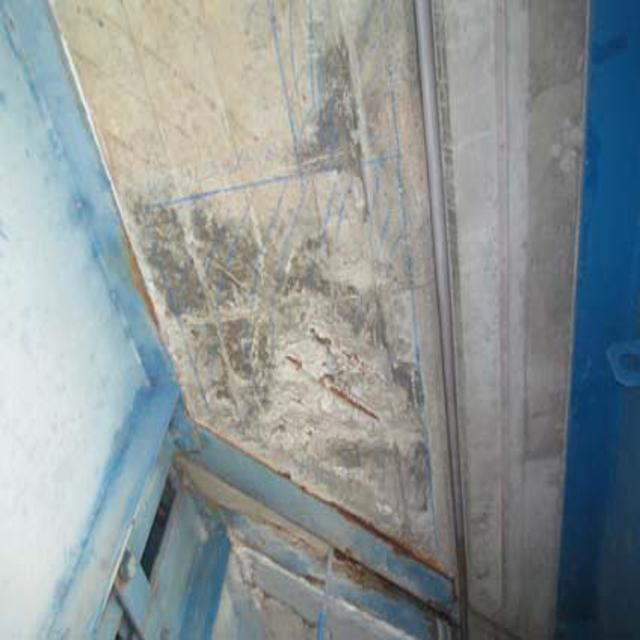spalling: (220, 290, 417, 500)
